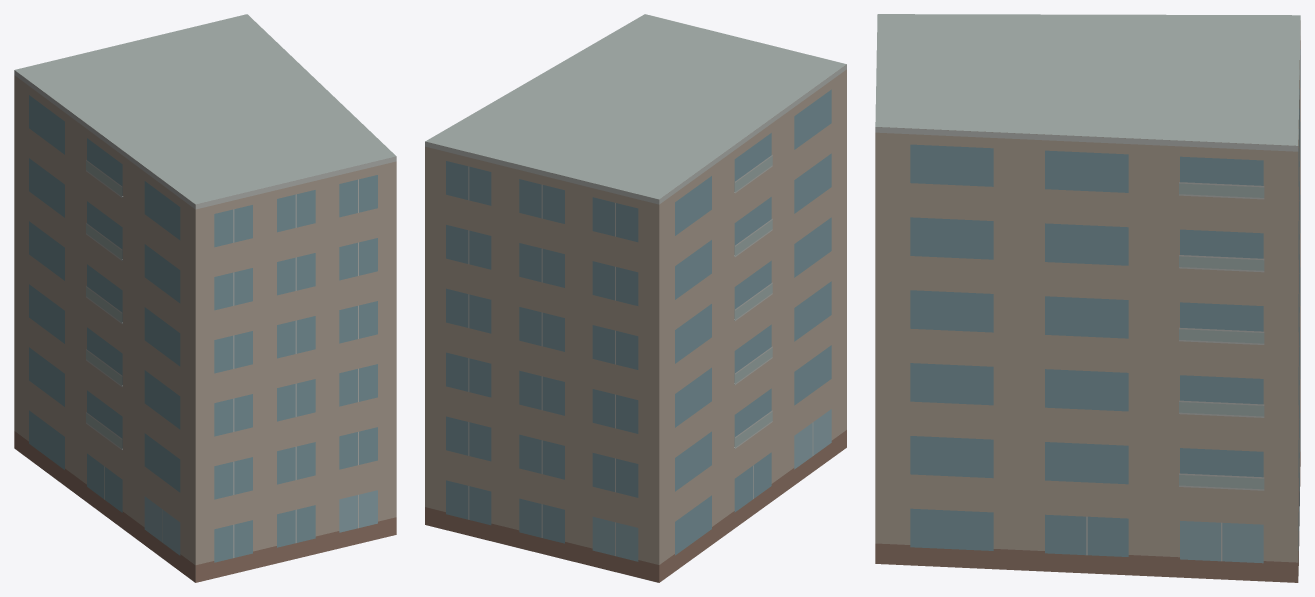
Rendered from survey-upis-32867600.glb.
3 renders of one model, left to right at view 1: azimuth 30°, elevation 25°; view 2: azimuth 150°, elevation 25°; view 3: azimuth 270°, elevation 25°, orthographic. The views are drawn at different scales.
Visible parts, largest first — view 1: survey-upis-32867600.tmp; view 2: survey-upis-32867600.tmp; view 3: survey-upis-32867600.tmp.
Boxes of the visible parts, x1=… form: survey-upis-32867600.tmp: x1=14, y1=14, x2=396, y2=582; survey-upis-32867600.tmp: x1=425, y1=14, x2=846, y2=582; survey-upis-32867600.tmp: x1=875, y1=14, x2=1300, y2=582.
Bounding box in the file's own units: 11.86 × 18.3 × 16.15.
